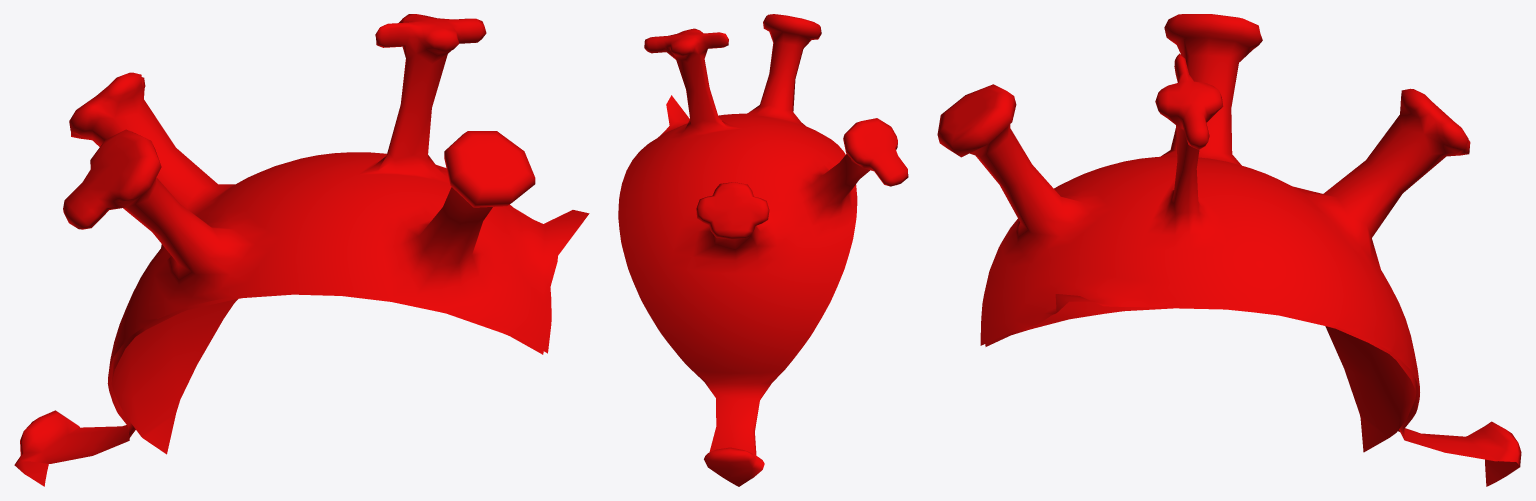
The model's file is debris2.fbx.
3 renders of one model, left to right at view 1: azimuth 30°, elevation 25°; view 2: azimuth 150°, elevation 25°; view 3: azimuth 270°, elevation 25°, orthographic. The views are drawn at different scales.
Parts seen in each view (by area): view 1: polySurface4; view 2: polySurface4; view 3: polySurface4.
Boxes of the visible parts, left/top/right/bottom form: polySurface4: left=14, top=14, right=589, bottom=486; polySurface4: left=618, top=14, right=908, bottom=486; polySurface4: left=937, top=14, right=1521, bottom=486.
Bounding box in the file's own units: 1.98 × 2.3 × 2.34.
